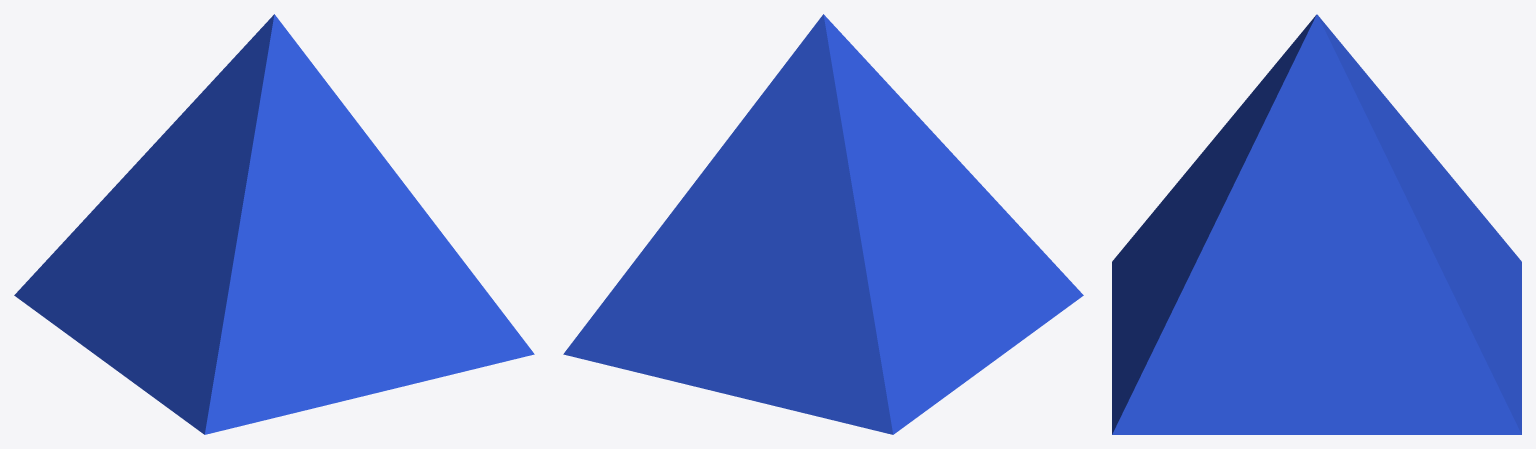
Rendered from product-scene.dae.
The picture shows the model from 3 angles, left to right: view 1: azimuth 30°, elevation 25°; view 2: azimuth 150°, elevation 25°; view 3: azimuth 270°, elevation 25°; orthographic projection. The views are drawn at different scales.
Visible parts, largest first — view 1: PreviewDock Stand; view 2: PreviewDock Stand; view 3: PreviewDock Stand.
Part boxes in pixels (x1,y1,x2,y2): PreviewDock Stand: [14, 14, 534, 434]; PreviewDock Stand: [563, 14, 1083, 434]; PreviewDock Stand: [1112, 14, 1521, 434].
Bounding box in the file's own units: 2 × 1.8 × 2.
